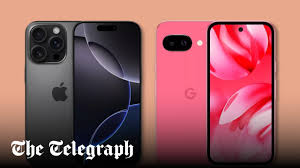phone: (15, 11, 294, 163)
